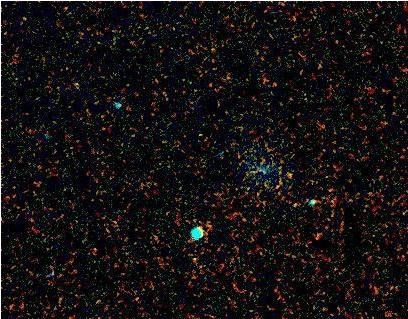star: (179, 240, 209, 270)
